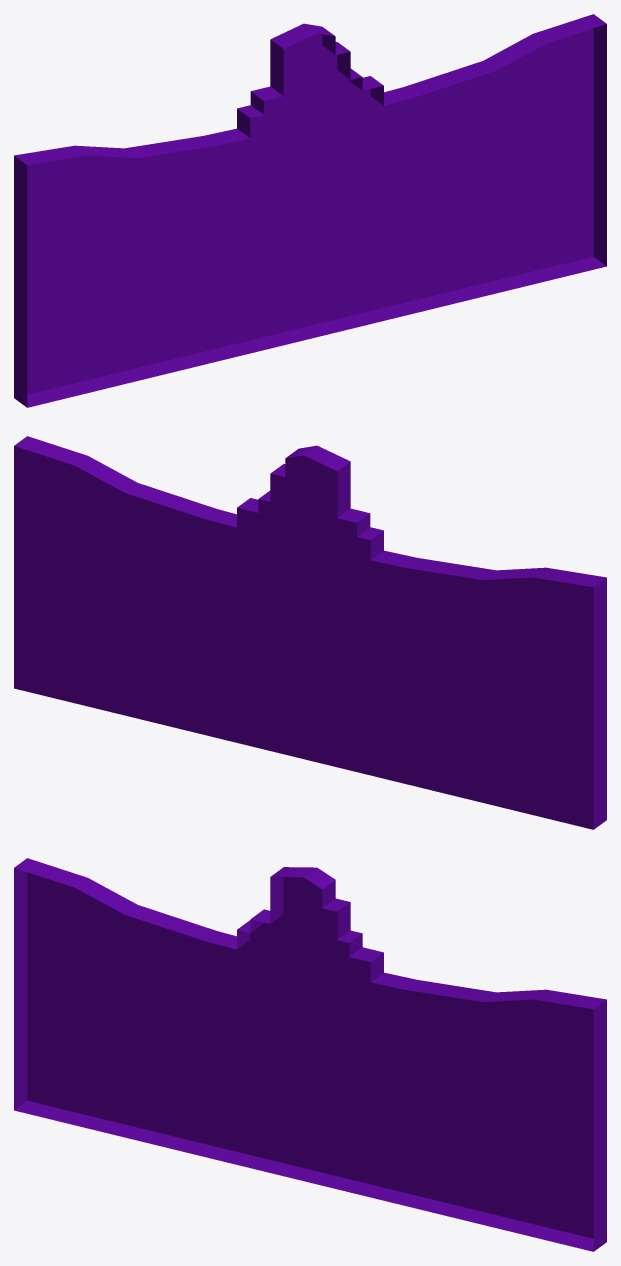
The model's file is candy mountain low res 2.fbx.
3 views of the same model, one above another, from view 1: azimuth 30°, elevation 25°; view 2: azimuth 150°, elevation 25°; view 3: azimuth 330°, elevation 25° (orthographic).
Parts seen in each view (by area): view 1: Candy_Mountain_terrain; view 2: Candy_Mountain_terrain; view 3: Candy_Mountain_terrain.
Part boxes in pixels (x1,y1,x2,y2): Candy_Mountain_terrain: (14,14,606,407); Candy_Mountain_terrain: (14,436,606,829); Candy_Mountain_terrain: (14,858,606,1251).
Size of the model in its own units: 25 by 12.52 by 1.
